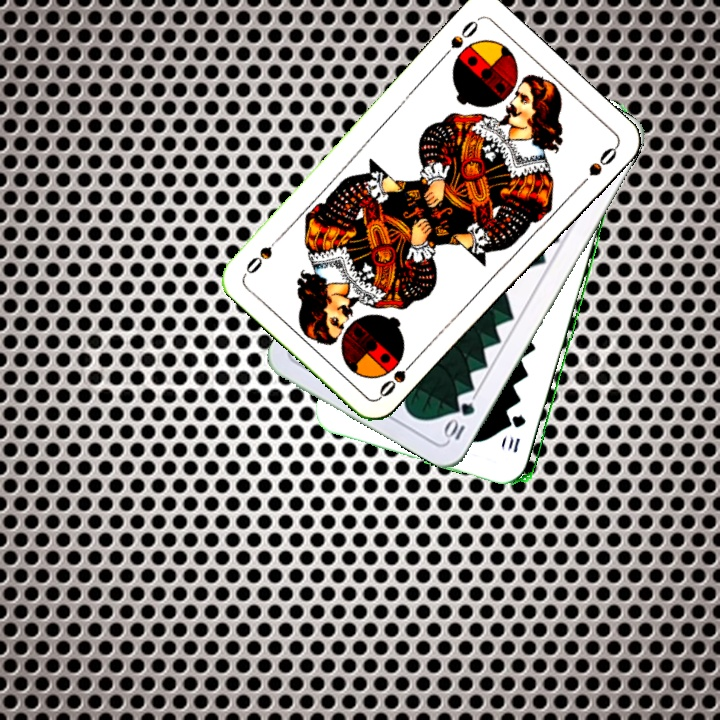G10: (441, 398, 478, 443), (504, 411, 528, 455)
SO: (375, 353, 421, 401), (437, 15, 482, 63)
